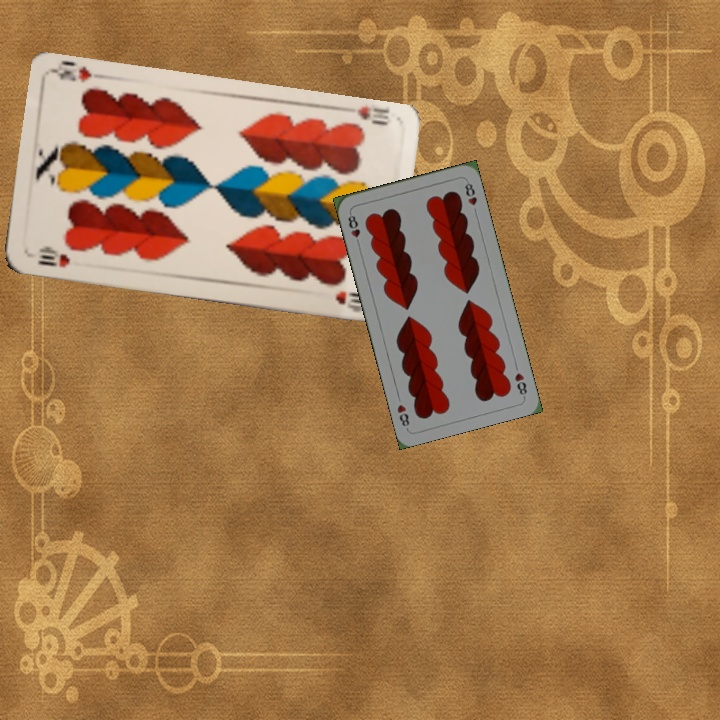H10: (353, 102, 394, 128), (33, 244, 73, 270)
H8: (344, 209, 363, 249), (510, 368, 530, 400)
